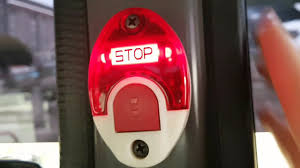bell: (87, 7, 193, 168)
